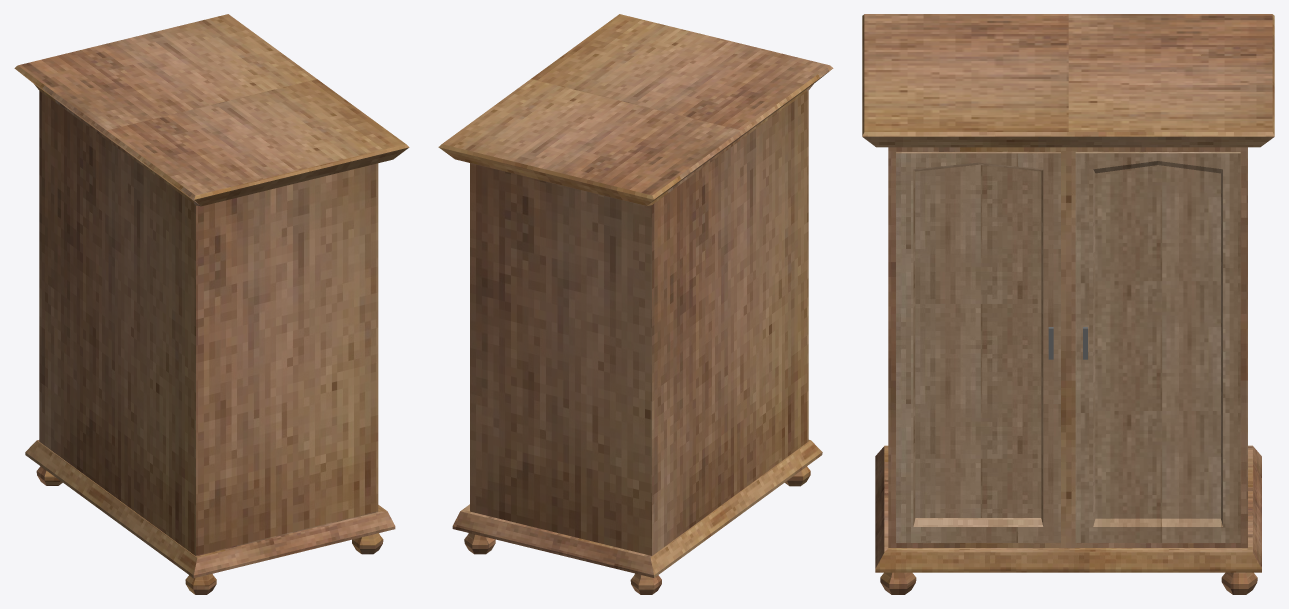
The model's file is Wardrobe.fbx.
3 views of the same model, side by side, from view 1: azimuth 30°, elevation 25°; view 2: azimuth 150°, elevation 25°; view 3: azimuth 270°, elevation 25° (orthographic). The views are drawn at different scales.
Parts seen in each view (by area): view 1: dolab; view 2: dolab; view 3: dolab, kapak2, kapak1.
Boxes of the visible parts, x1,y1,x2,y2 form: dolab: (14, 14, 409, 594); dolab: (438, 14, 833, 594); dolab: (862, 14, 1274, 594); kapak2: (1075, 152, 1240, 542); kapak1: (896, 152, 1060, 542).
Size of the model in its own units: 652 by 1188 by 942.
Materials: 3 (2 with a texture image).
